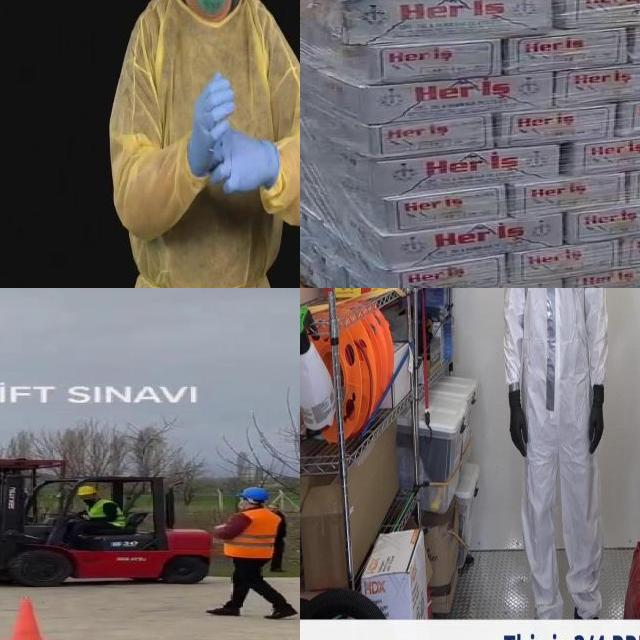Glove: (194, 70, 234, 174), (214, 134, 276, 192), (508, 388, 529, 458), (588, 384, 605, 454)
